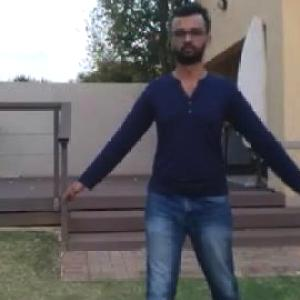land: (86, 31, 281, 299)
